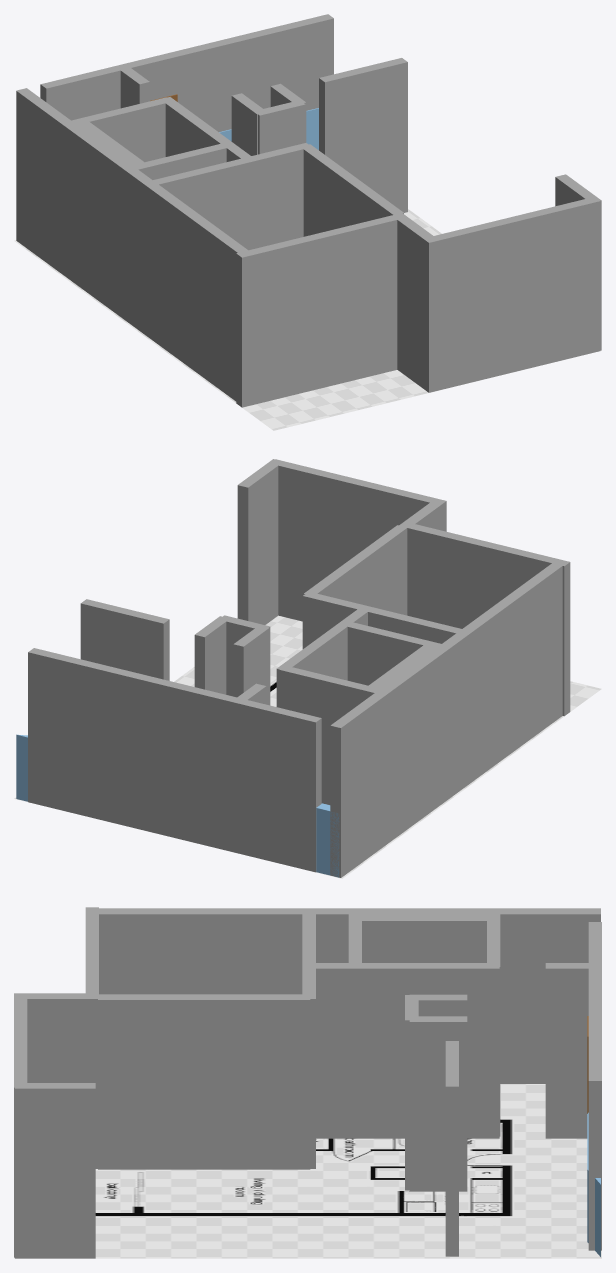
File: floorplan1.obj
The picture shows the model from 3 angles, top to bottom: view 1: azimuth 30°, elevation 25°; view 2: azimuth 150°, elevation 25°; view 3: azimuth 270°, elevation 25°; orthographic projection. The views are drawn at different scales.
Parts seen in each view (by area): view 1: wall, FloorPlan, Window; view 2: wall, FloorPlan, Window; view 3: wall, FloorPlan, Window.
Boxes of the visible parts, bbox=[...] form: wall: bbox=[16, 14, 601, 407]; FloorPlan: bbox=[14, 209, 601, 430]; Window: bbox=[219, 108, 318, 149]; wall: bbox=[28, 459, 570, 877]; FloorPlan: bbox=[14, 615, 601, 878]; Window: bbox=[16, 734, 339, 877]; wall: bbox=[14, 907, 601, 1258]; FloorPlan: bbox=[14, 1084, 601, 1258]; Window: bbox=[587, 1112, 600, 1256].
Size of the model in its own units: 6.41 by 2.8 by 8.79.
4 materials, 1 textured.
